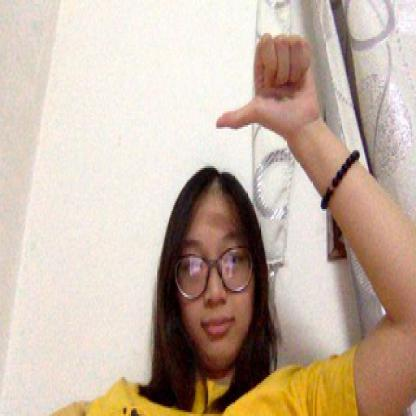right: (214, 26, 322, 140)
